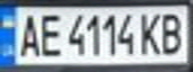1: (81, 10, 103, 56), (100, 10, 121, 56)
4: (63, 10, 87, 56), (115, 10, 139, 55)
A: (12, 10, 42, 58)
B: (157, 9, 190, 55)
E: (36, 10, 63, 57)
K: (136, 9, 163, 56)
